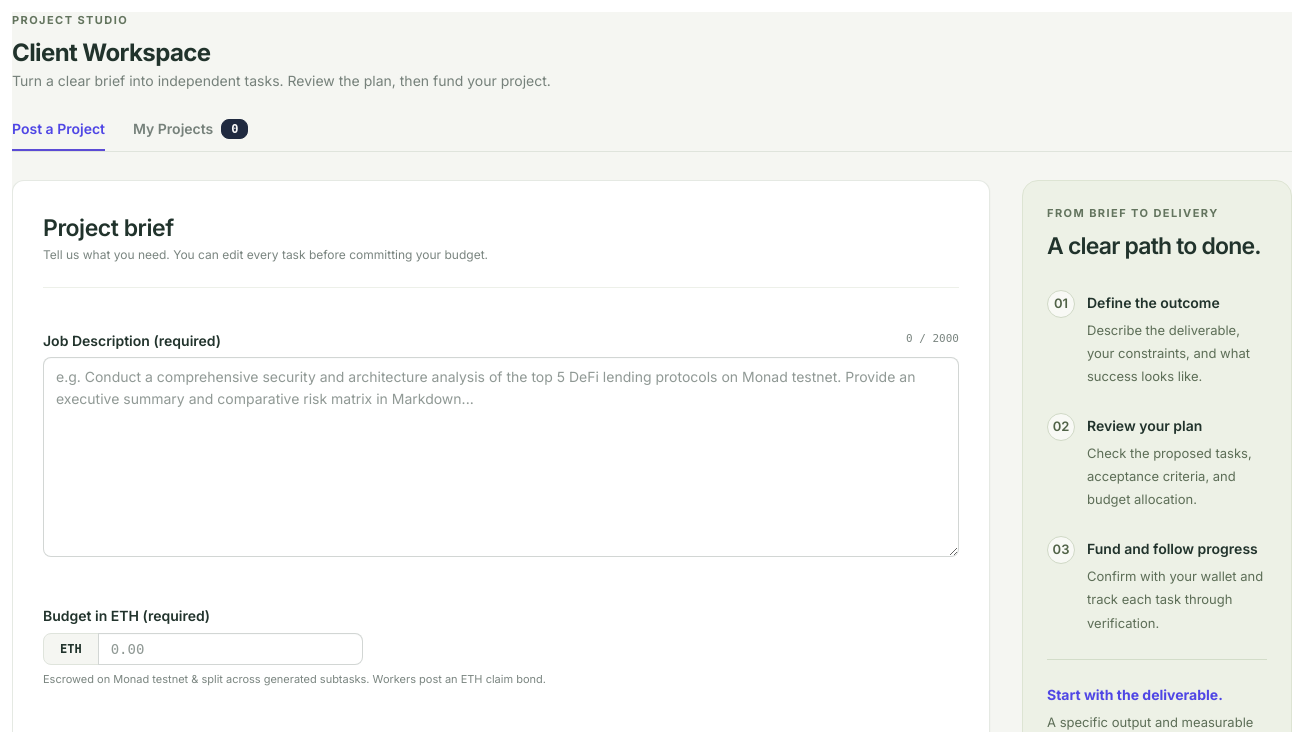
it: CustomerDashboard create-task validation › projects the per-subtask reward from the budget
The image size is (1292, 732).
In the number field with id "task-budget": {"x": 230, "y": 649} [98,633,363,665], type "15"
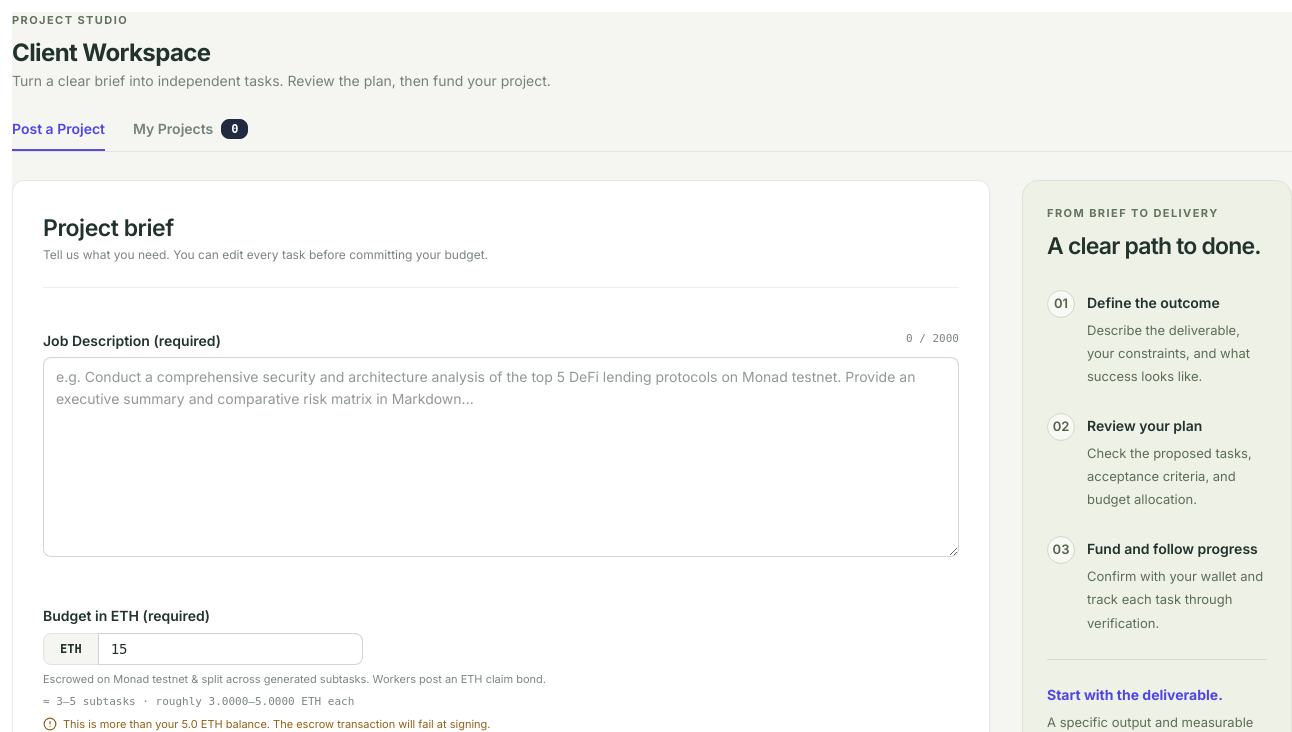
Expected: the text "≈ 3–5 subtasks · roughly 3.0000–5.0000 ETH each" is shown, [43,695,354,708]
